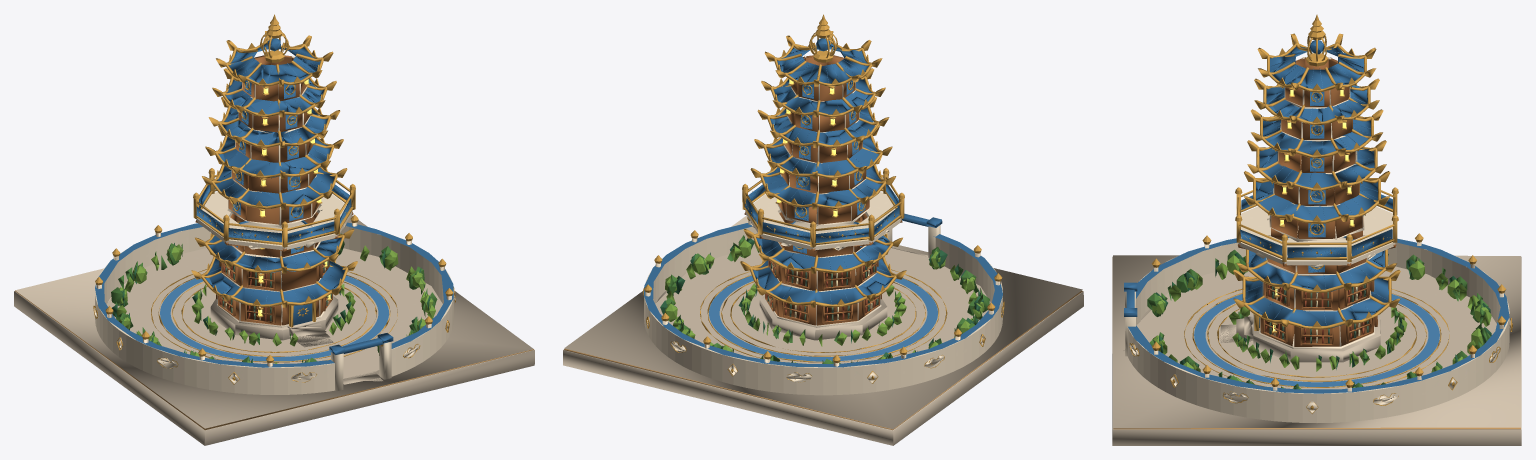
File: city-5-lod2-a1c2bc901410.glb
3 views of the same model, side by side, from view 1: azimuth 30°, elevation 25°; view 2: azimuth 150°, elevation 25°; view 3: azimuth 270°, elevation 25° (orthographic). The views are drawn at different scales.
Visible parts, largest first — view 1: SM_CT5_V4_Batch_0.002, SM_CT5_V4_Batch_77.002, SM_CT5_V4_Batch_73.002, SM_CT5_V4_Batch_78.002, SM_CT5_V4_Batch_68.002, SM_CT5_V4_Batch_5.002, SM_CT5_V4_Batch_83.002, SM_CT5_V4_Batch_82.002, SM_CT5_V4_Batch_1.002, SM_CT5_V4_Batch_9.002, SM_CT5_V4_Batch_81.002; view 2: SM_CT5_V4_Batch_0.002, SM_CT5_V4_Batch_77.002, SM_CT5_V4_Batch_73.002, SM_CT5_V4_Batch_78.002, SM_CT5_V4_Batch_68.002, SM_CT5_V4_Batch_83.002, SM_CT5_V4_Batch_5.002, SM_CT5_V4_Batch_82.002, SM_CT5_V4_Batch_9.002, SM_CT5_V4_Batch_1.002, SM_CT5_V4_Batch_81.002; view 3: SM_CT5_V4_Batch_0.002, SM_CT5_V4_Batch_73.002, SM_CT5_V4_Batch_77.002, SM_CT5_V4_Batch_78.002, SM_CT5_V4_Batch_68.002, SM_CT5_V4_Batch_5.002, SM_CT5_V4_Batch_83.002, SM_CT5_V4_Batch_82.002, SM_CT5_V4_Batch_9.002, SM_CT5_V4_Batch_1.002, SM_CT5_V4_Batch_81.002, SM_CT5_V4_Batch_12.002.
Part boxes in pixels (x1,y1,x2,y2): SM_CT5_V4_Batch_0.002: [14, 215, 534, 445]; SM_CT5_V4_Batch_77.002: [95, 38, 453, 367]; SM_CT5_V4_Batch_73.002: [94, 56, 455, 394]; SM_CT5_V4_Batch_78.002: [93, 14, 455, 384]; SM_CT5_V4_Batch_68.002: [195, 55, 353, 325]; SM_CT5_V4_Batch_5.002: [160, 48, 388, 361]; SM_CT5_V4_Batch_83.002: [116, 244, 435, 363]; SM_CT5_V4_Batch_82.002: [111, 234, 437, 362]; SM_CT5_V4_Batch_1.002: [15, 290, 533, 430]; SM_CT5_V4_Batch_9.002: [220, 263, 322, 321]; SM_CT5_V4_Batch_81.002: [112, 233, 430, 363]; SM_CT5_V4_Batch_0.002: [563, 215, 1083, 445]; SM_CT5_V4_Batch_77.002: [644, 38, 1002, 367]; SM_CT5_V4_Batch_73.002: [644, 55, 1003, 395]; SM_CT5_V4_Batch_78.002: [643, 14, 1004, 383]; SM_CT5_V4_Batch_68.002: [744, 55, 902, 325]; SM_CT5_V4_Batch_83.002: [664, 240, 984, 363]; SM_CT5_V4_Batch_5.002: [709, 47, 937, 361]; SM_CT5_V4_Batch_82.002: [666, 235, 989, 363]; SM_CT5_V4_Batch_9.002: [767, 262, 876, 321]; SM_CT5_V4_Batch_1.002: [564, 291, 1082, 430]; SM_CT5_V4_Batch_81.002: [660, 238, 983, 363]; SM_CT5_V4_Batch_0.002: [1112, 255, 1521, 445]; SM_CT5_V4_Batch_73.002: [1125, 57, 1510, 422]; SM_CT5_V4_Batch_77.002: [1124, 40, 1509, 393]; SM_CT5_V4_Batch_78.002: [1129, 14, 1512, 413]; SM_CT5_V4_Batch_68.002: [1237, 57, 1396, 346]; SM_CT5_V4_Batch_5.002: [1194, 51, 1439, 386]; SM_CT5_V4_Batch_83.002: [1152, 255, 1491, 389]; SM_CT5_V4_Batch_82.002: [1147, 249, 1490, 389]; SM_CT5_V4_Batch_9.002: [1265, 282, 1374, 343]; SM_CT5_V4_Batch_1.002: [1113, 427, 1520, 429]; SM_CT5_V4_Batch_81.002: [1155, 252, 1491, 389]; SM_CT5_V4_Batch_12.002: [1269, 284, 1368, 343].
Bounding box in the file's own units: 9.99 × 9.31 × 9.99.
Materials: 15 (4 with a texture image).
